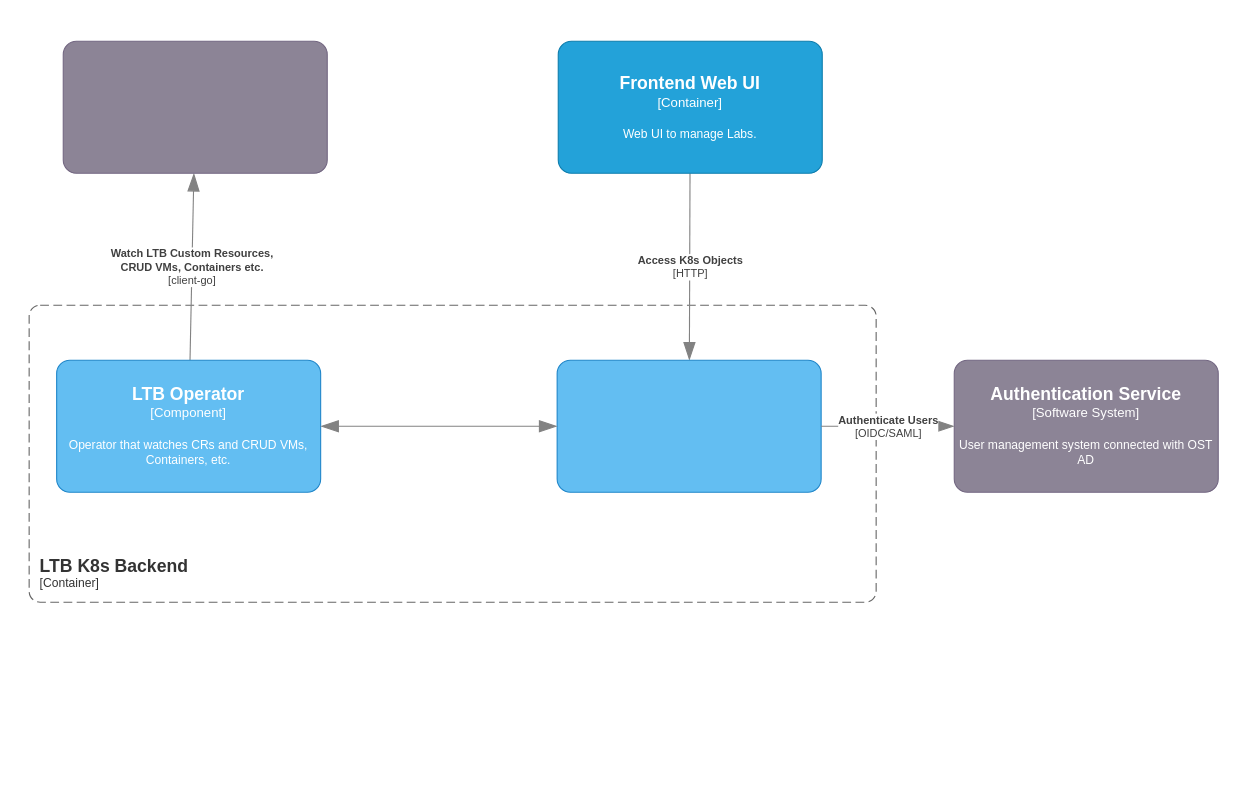
Some shapes in this 1247 by 807 pixel diagram are drawn without their labels. The centre of each missing label's shape, as x and y in pixels:
"K8s [Software System] Kubernetes" belongs at (x=194, y=106).
"LTB Operator API [Component] API to manage LTB Labs and Users" belongs at (x=688, y=425).
